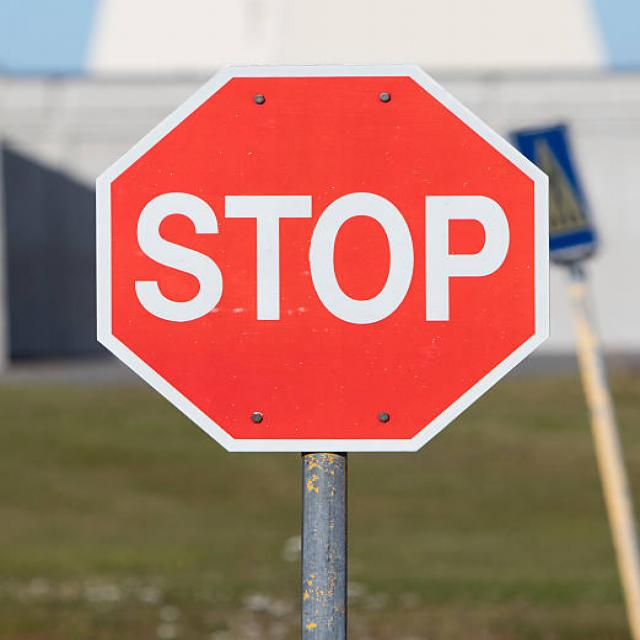stop: (82, 56, 569, 458)
